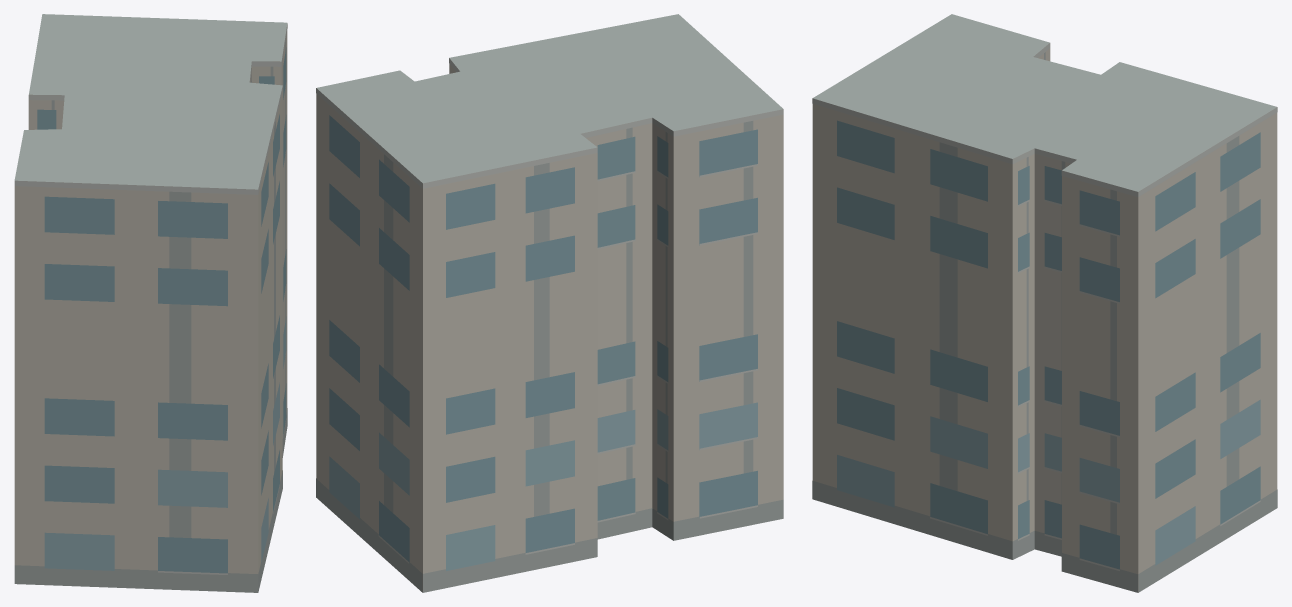
Rendered from survey-upis-32563946.glb.
3 renders of one model, left to right at view 1: azimuth 30°, elevation 25°; view 2: azimuth 150°, elevation 25°; view 3: azimuth 270°, elevation 25°, orthographic. The views are drawn at different scales.
Parts seen in each view (by area): view 1: survey-upis-32563946.tmp; view 2: survey-upis-32563946.tmp; view 3: survey-upis-32563946.tmp.
Boxes of the visible parts, bbox=[...] form: survey-upis-32563946.tmp: bbox=[14, 14, 287, 592]; survey-upis-32563946.tmp: bbox=[316, 14, 783, 592]; survey-upis-32563946.tmp: bbox=[812, 14, 1277, 592].
Size of the model in its own units: 17.42 by 18.3 by 19.24.
